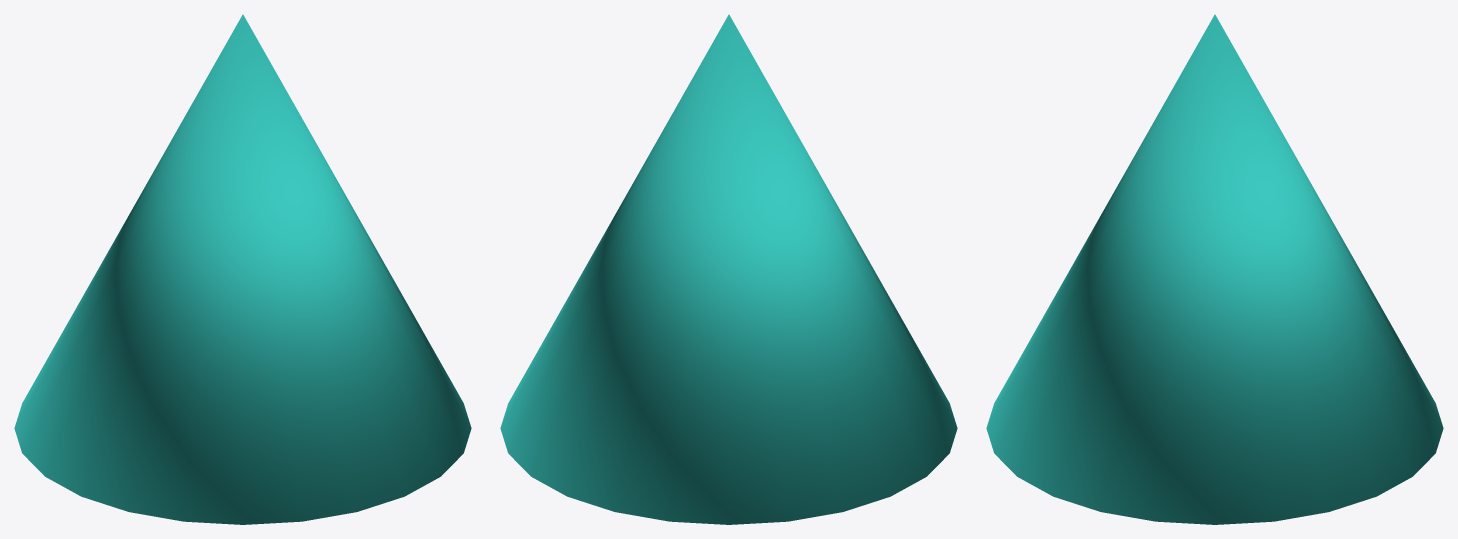
File: cone-lite.glb
The picture shows the model from 3 angles, left to right: view 1: azimuth 30°, elevation 25°; view 2: azimuth 150°, elevation 25°; view 3: azimuth 270°, elevation 25°; orthographic projection.
Parts seen in each view (by area): view 1: Cone; view 2: Cone; view 3: Cone.
Part boxes in pixels (box(x1,y1,x2,y2)): Cone: box(14, 14, 471, 524); Cone: box(500, 14, 957, 524); Cone: box(986, 14, 1443, 524).
Size of the model in its own units: 1.6 by 1.6 by 1.6.
